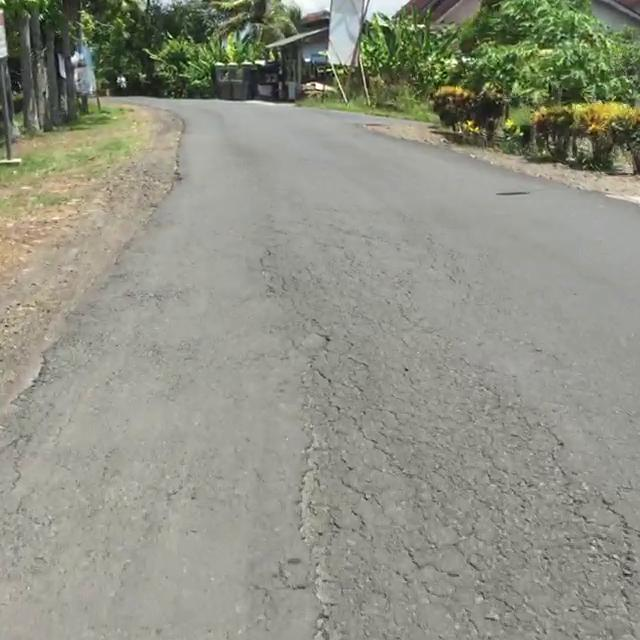retak_memanjang: (275, 365, 354, 640)
